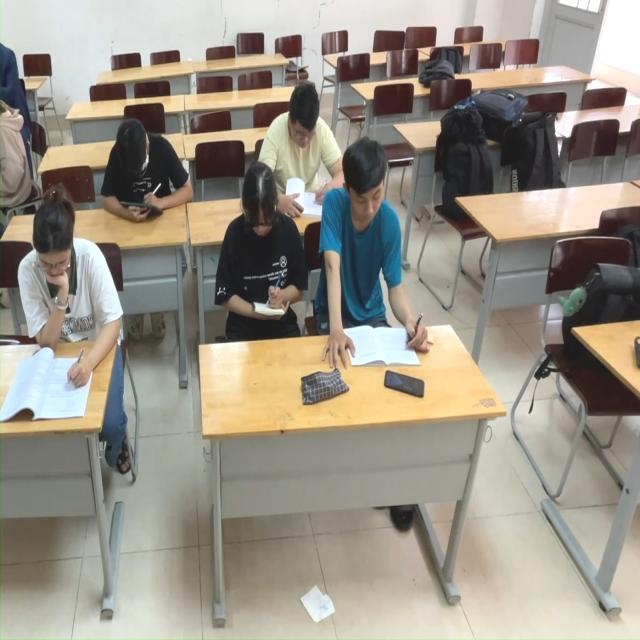read: (10, 183, 127, 427), (206, 156, 319, 357), (337, 147, 426, 367), (97, 109, 188, 236), (279, 74, 338, 207)
